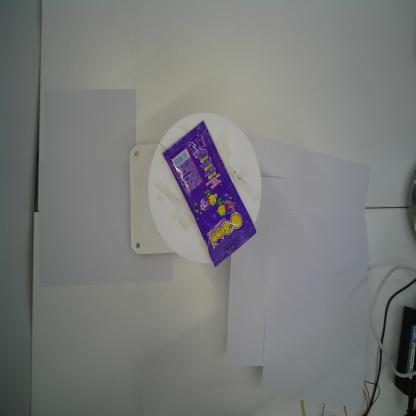Candy: (162, 121, 258, 270)
